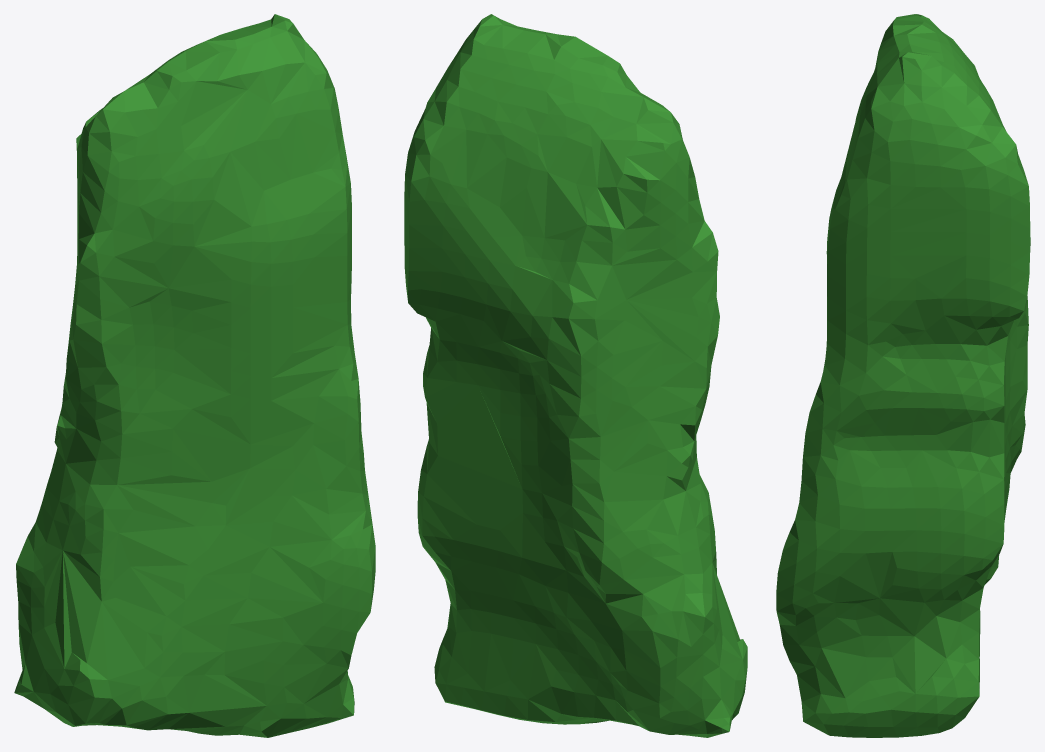
File: Model_10067_LH__Area_32_of_cortex__ventral_part_(A32V).obj
The picture shows the model from 3 angles, left to right: view 1: azimuth 30°, elevation 25°; view 2: azimuth 150°, elevation 25°; view 3: azimuth 270°, elevation 25°; orthographic projection. The views are drawn at different scales.
Size of the model in its own units: 1.35 by 2.95 by 1.01.
